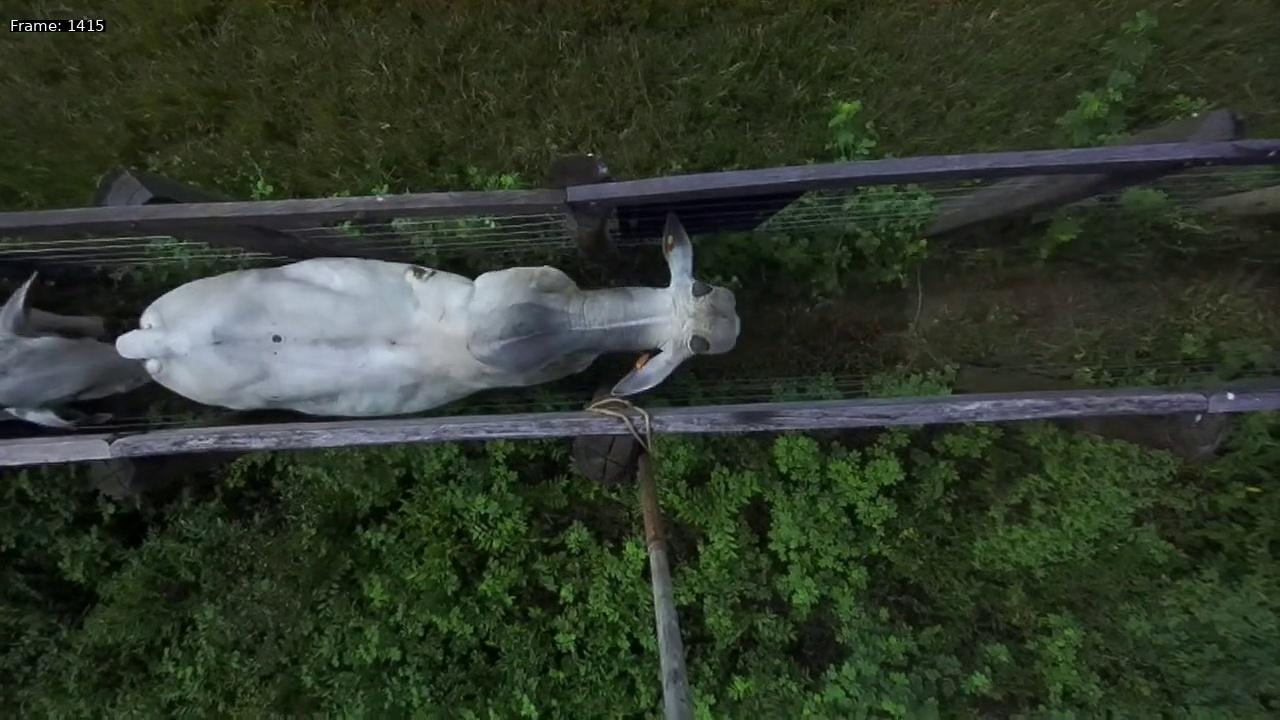cattle: (101, 197, 751, 418)
